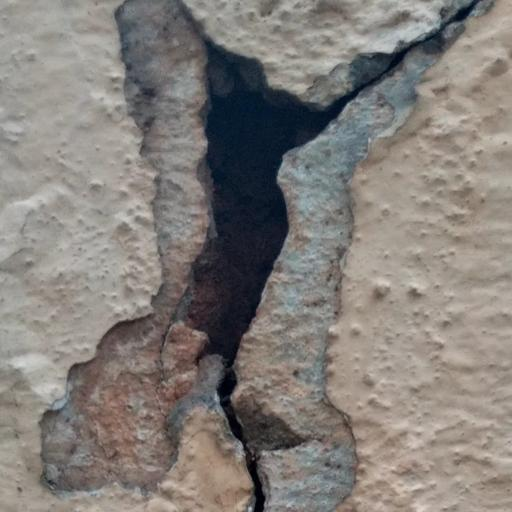major_crack: (39, 3, 490, 512)
